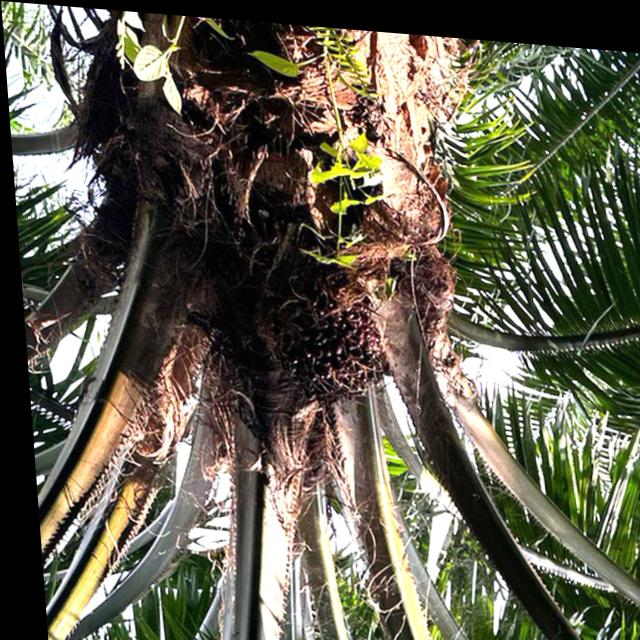unripe: (245, 204, 459, 407)
